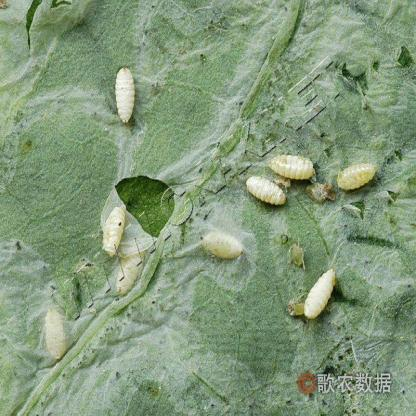whorl-maggot: (108, 61, 140, 132), (336, 158, 381, 196), (243, 174, 290, 210), (304, 268, 336, 320), (38, 306, 67, 361), (266, 151, 317, 182), (202, 230, 244, 262), (102, 206, 126, 258)
